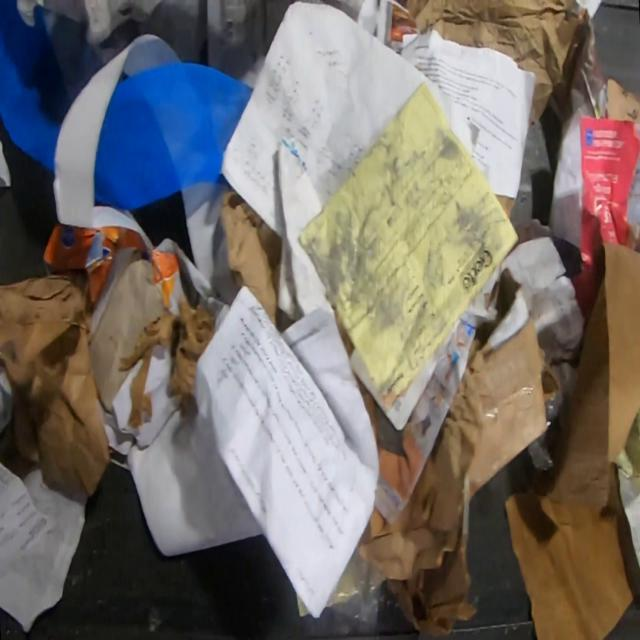cardboard: (502, 240, 640, 639), (0, 268, 113, 501), (468, 287, 550, 502), (42, 223, 190, 318), (220, 188, 281, 330), (604, 78, 640, 126)
soft_plastic: (326, 547, 386, 634)
